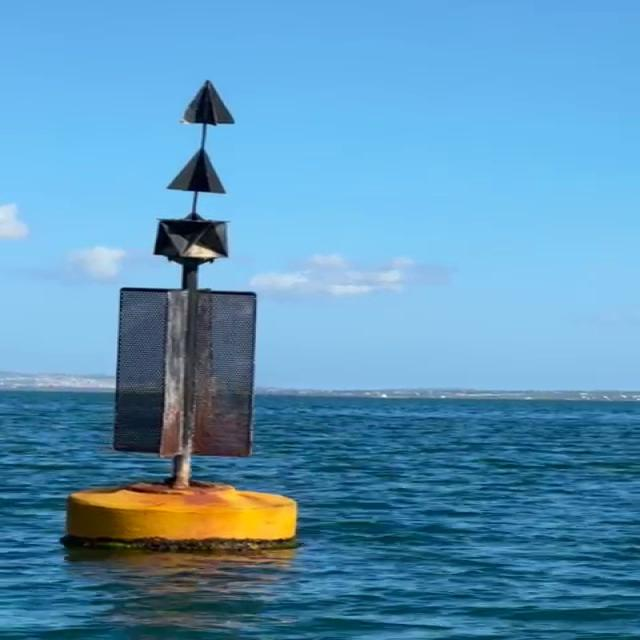marque: (68, 78, 302, 555)
